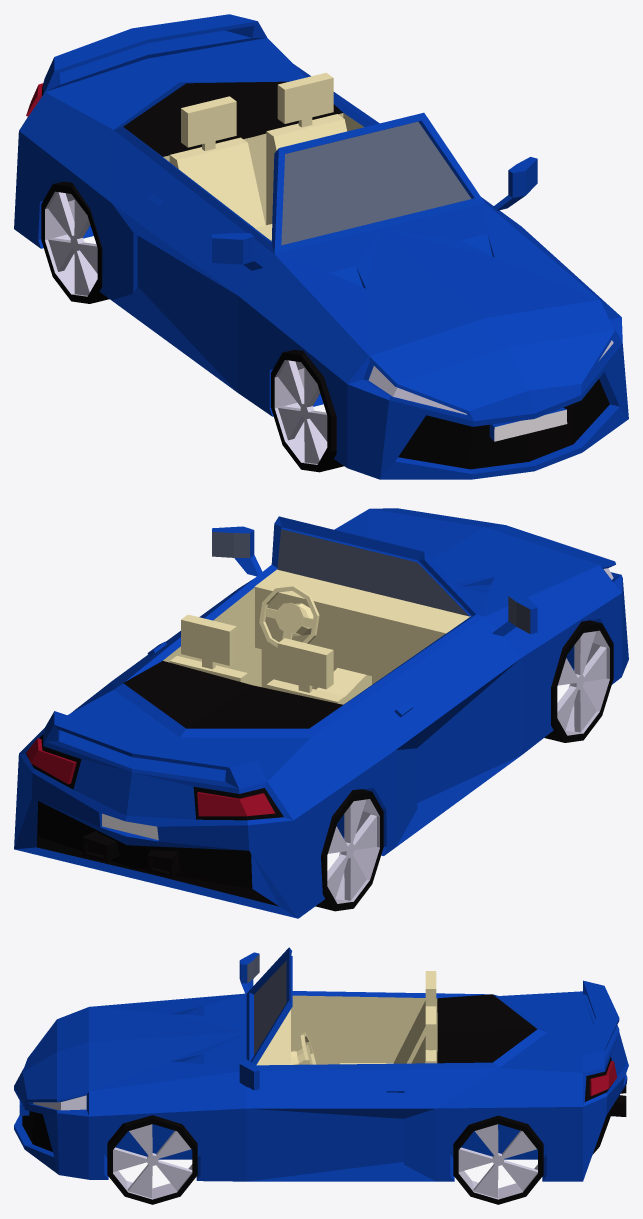
File: mod-conversivel.gltf
3 views of the same model, one above another, from view 1: azimuth 30°, elevation 25°; view 2: azimuth 150°, elevation 25°; view 3: azimuth 270°, elevation 25° (orthographic). The views are drawn at different scales.
Parts seen in each view (by area): view 1: Roadster, Roadster wheel front left; view 2: Roadster, Roadster wheel front left; view 3: Roadster, Roadster wheel front left.
Boxes of the visible parts, x1,y1,x2,y2 form: Roadster: (14, 14, 628, 479); Roadster wheel front left: (41, 181, 343, 472); Roadster: (14, 508, 628, 918); Roadster wheel front left: (315, 620, 613, 911); Roadster: (14, 947, 628, 1181); Roadster wheel front left: (107, 1115, 543, 1204).
Bounding box in the file's own units: 2.32 × 1.62 × 5.04.
